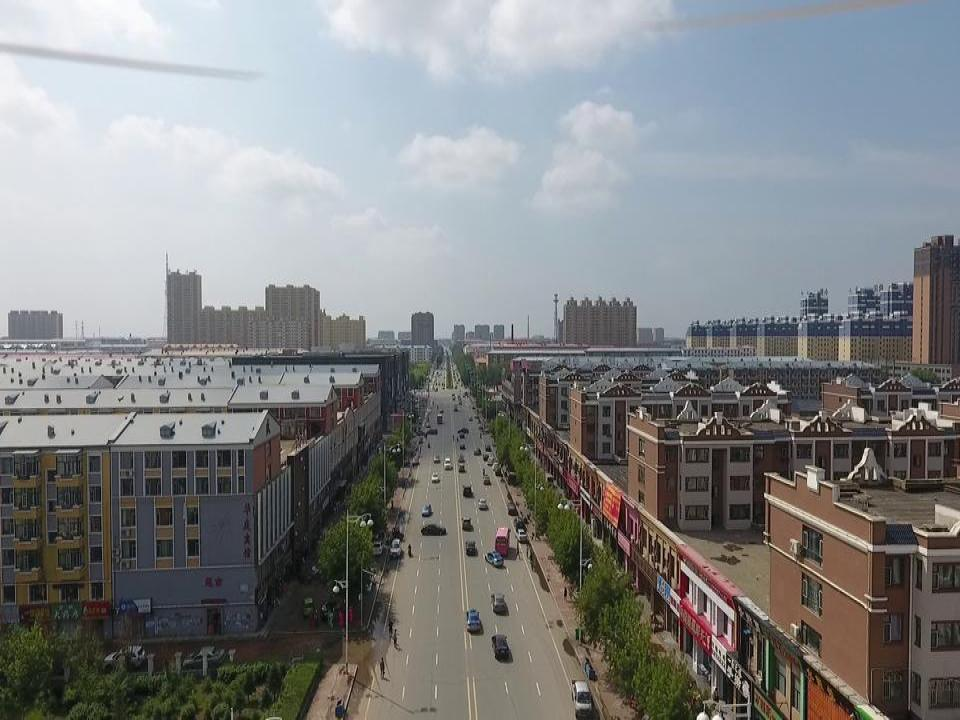bus: (494, 526, 511, 554), (437, 413, 442, 424)
car: (109, 642, 146, 670), (183, 646, 226, 666), (490, 633, 509, 659), (465, 607, 481, 632), (483, 548, 504, 567), (420, 521, 446, 536), (490, 591, 506, 613), (310, 564, 332, 576), (389, 539, 402, 556), (515, 528, 528, 543), (465, 538, 476, 554), (371, 539, 383, 553), (461, 516, 472, 531), (420, 503, 432, 516), (513, 516, 524, 528), (462, 483, 472, 496), (477, 498, 488, 509), (426, 426, 438, 434), (457, 426, 469, 434), (431, 472, 439, 483), (507, 503, 515, 513), (433, 453, 440, 463), (416, 428, 426, 435), (483, 475, 490, 485), (492, 461, 499, 471), (495, 465, 501, 476), (473, 446, 481, 454), (457, 452, 464, 461), (412, 456, 419, 465), (487, 456, 494, 465), (483, 452, 490, 461), (458, 464, 465, 472), (484, 442, 490, 450), (477, 421, 483, 428), (460, 442, 465, 450), (459, 430, 464, 438), (425, 421, 430, 427), (468, 415, 473, 421), (451, 395, 456, 400), (440, 407, 444, 413), (474, 412, 478, 417), (459, 399, 462, 404)
truck: (569, 677, 593, 719), (392, 525, 404, 539), (453, 401, 458, 412)
van: (303, 596, 313, 615), (444, 457, 451, 468)
